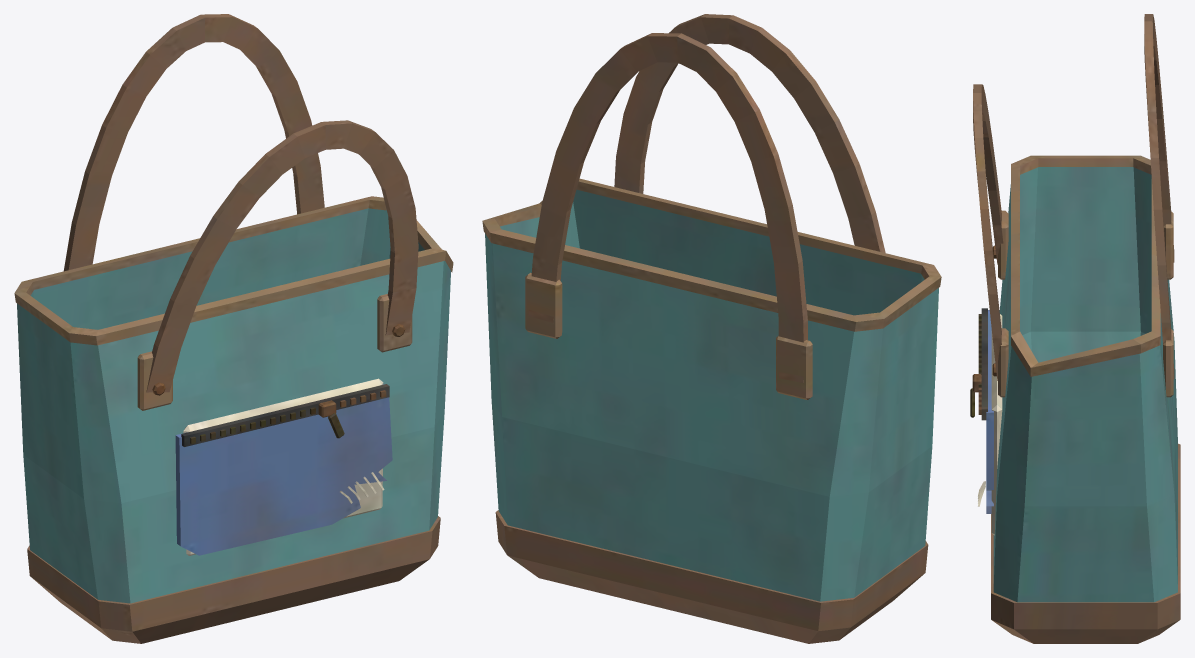
File: D13_handbag_v2.glb
3 views of the same model, side by side, from view 1: azimuth 30°, elevation 25°; view 2: azimuth 150°, elevation 25°; view 3: azimuth 270°, elevation 25° (orthographic). The views are drawn at different scales.
Visible parts, largest first — view 1: Canvas tote and lining; view 2: Canvas tote and lining; view 3: Canvas tote and lining.
Boxes of the visible parts, x1=… form: Canvas tote and lining: x1=14, y1=14, x2=453, y2=643; Canvas tote and lining: x1=482, y1=14, x2=941, y2=643; Canvas tote and lining: x1=970, y1=14, x2=1180, y2=643.
Size of the model in its own units: 0.2942 by 0.4 by 0.1385.
Materials: 8 (8 with a texture image).
